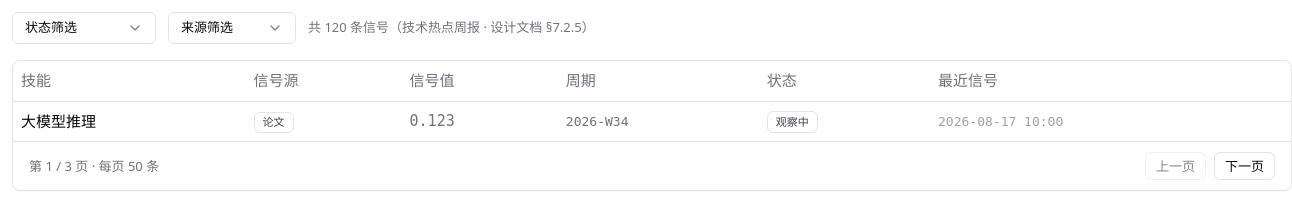
Test: TechnologyWatchTab 发现观察池 › total>50 显示分页并可翻页（page=2）
Expected: the text "第 1 / 3 页 · 每页 50 条" is shown, [29,158,159,175]
Expected: the button "上一页" is disabled, [1145,152,1206,180]
Click the button "下一页" at (1244, 166), box [1214,152,1275,180]
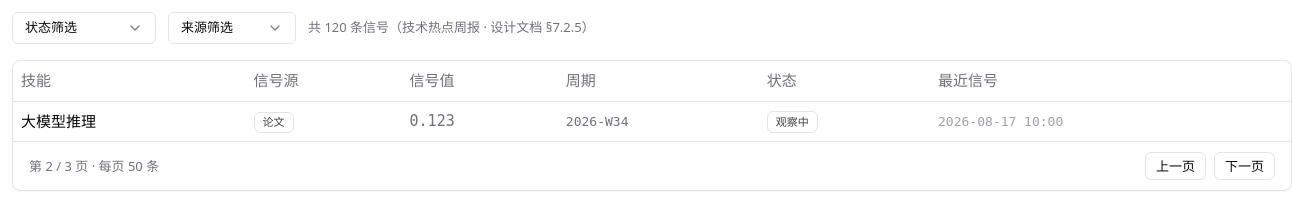
Expected: the text "第 2 / 3 页 · 每页 50 条" is shown, [29,158,159,175]
